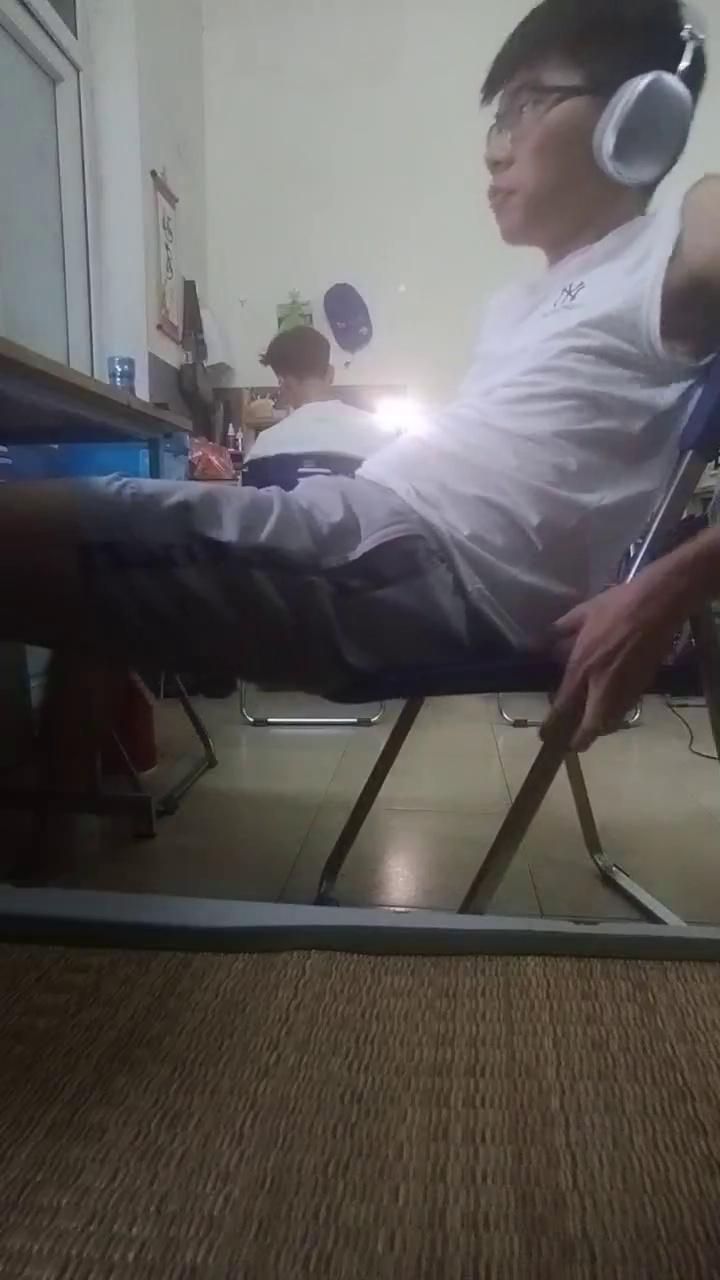BadPosture: (0, 0, 719, 715)
